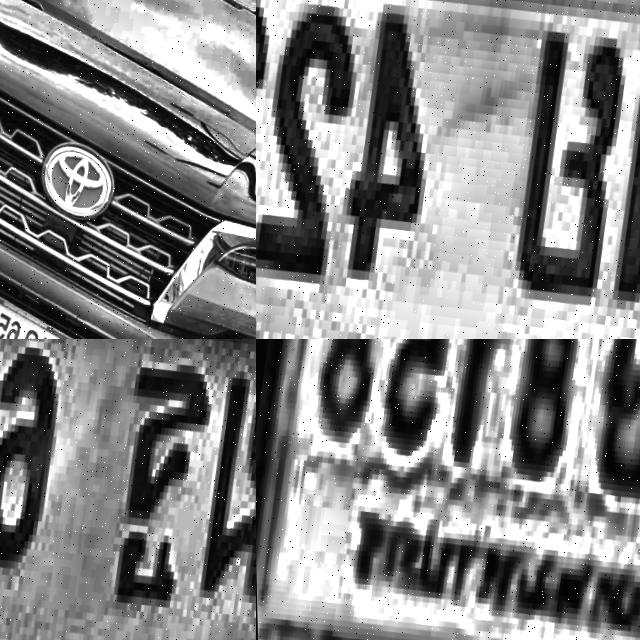license-plate: (256, 0, 640, 339), (256, 339, 640, 640), (0, 339, 256, 640), (0, 280, 86, 339)
